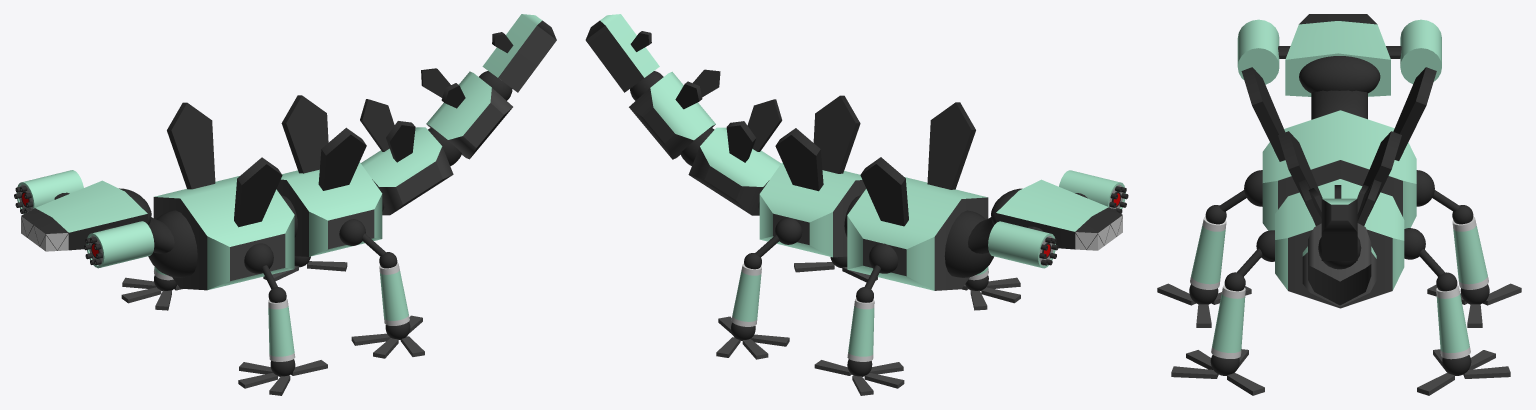
The model's file is RobotMG.fbx.
The picture shows the model from 3 angles, left to right: view 1: azimuth 30°, elevation 25°; view 2: azimuth 150°, elevation 25°; view 3: azimuth 270°, elevation 25°; orthographic projection. The views are drawn at different scales.
Parts seen in each view (by area): view 1: RobotB; view 2: RobotB; view 3: RobotB.
Boxes of the visible parts, x1,y1,x2,y2 form: RobotB: [14, 14, 556, 395]; RobotB: [585, 14, 1128, 395]; RobotB: [1157, 14, 1521, 395].
Bounding box in the file's own units: 37.43 × 16.59 × 19.64.
